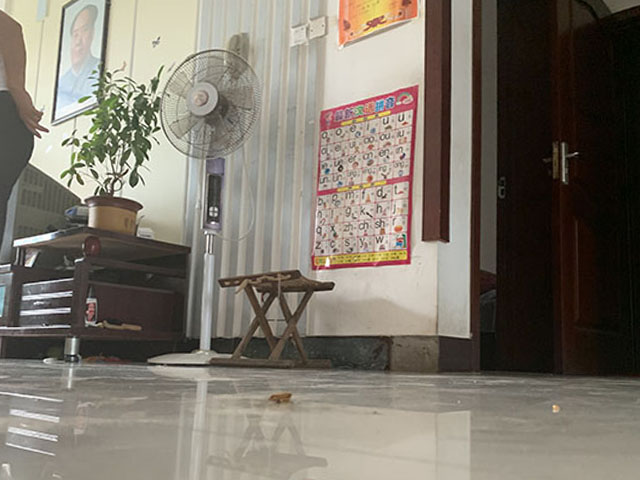cabinet: (1, 225, 196, 364)
stool: (210, 264, 336, 372)
